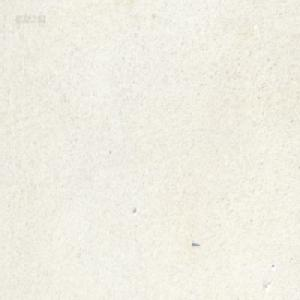Nail: (191, 241, 200, 247)
